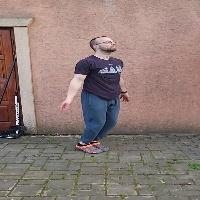jumping_jacks: (47, 25, 144, 171)
